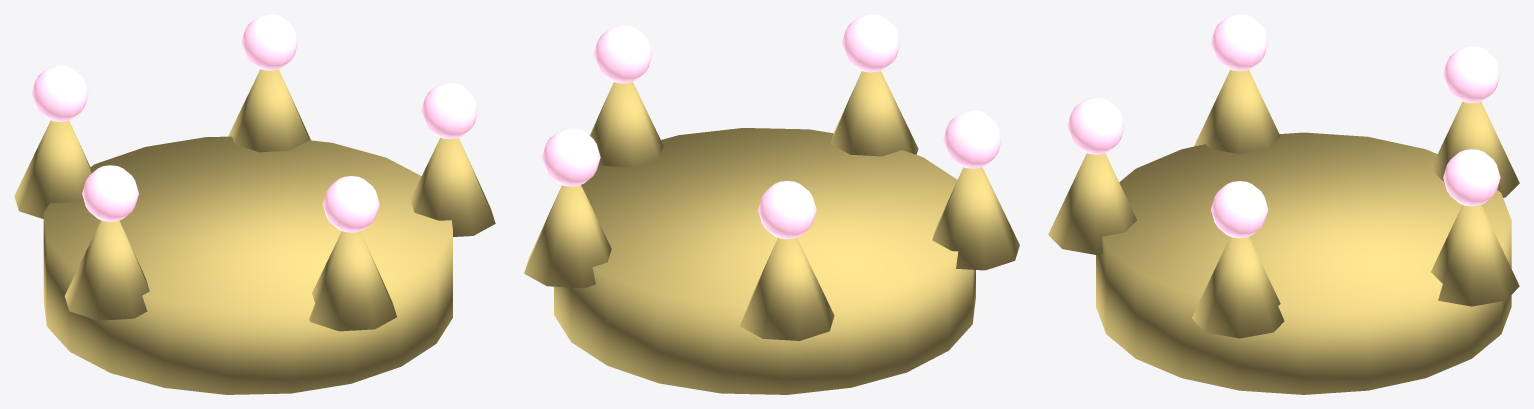
File: crown.glb
The picture shows the model from 3 angles, left to right: view 1: azimuth 30°, elevation 25°; view 2: azimuth 150°, elevation 25°; view 3: azimuth 270°, elevation 25°; orthographic projection. The views are drawn at different scales.
Parts seen in each view (by area): view 1: crown; view 2: crown; view 3: crown.
Boxes of the visible parts, x1,y1,x2,y2 form: crown: (14,14,495,394); crown: (524,14,1019,394); crown: (1048,14,1519,394).
Size of the model in its own units: 0.3073 by 0.143 by 0.2952.
